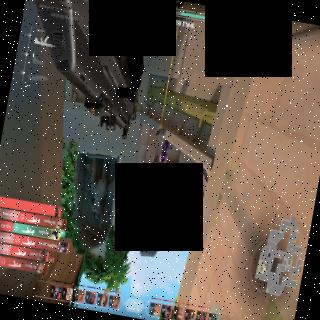ENEMY-BODY: (157, 138, 171, 169)
ENEMY-HEAD: (160, 162, 163, 168)
